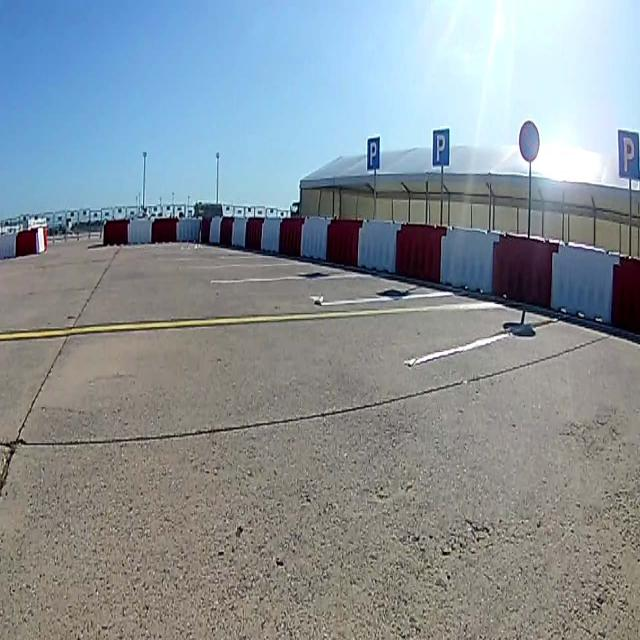park: (618, 130, 640, 178), (433, 127, 449, 167), (366, 138, 380, 170)
parkyasak: (519, 122, 541, 161)
